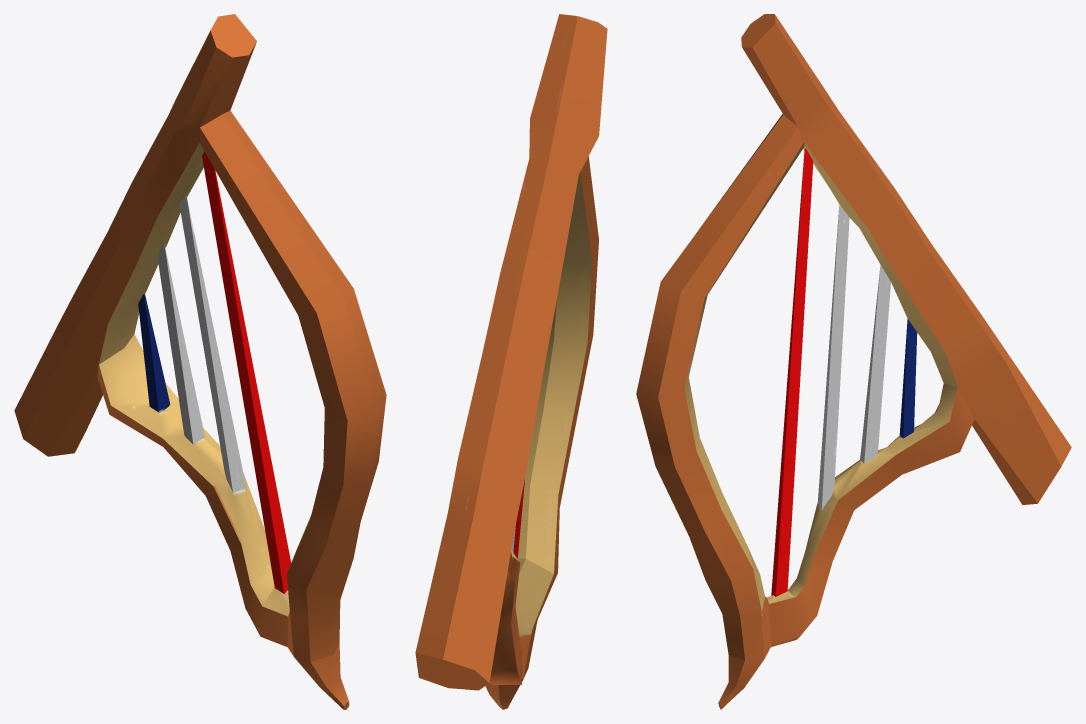
Rendered from Arpa3_000016.obj.
The picture shows the model from 3 angles, left to right: view 1: azimuth 30°, elevation 25°; view 2: azimuth 150°, elevation 25°; view 3: azimuth 270°, elevation 25°; orthographic projection. The views are drawn at different scales.
Visible parts, largest first — view 1: a3_Arpa_1:pCube6; view 2: a3_Arpa_1:pCube6; view 3: a3_Arpa_1:pCube6.
Boxes of the visible parts, x1=… form: a3_Arpa_1:pCube6: x1=14, y1=14, x2=386, y2=709; a3_Arpa_1:pCube6: x1=415, y1=14, x2=607, y2=709; a3_Arpa_1:pCube6: x1=636, y1=14, x2=1071, y2=709.
Size of the model in its own units: 2.54 by 10.04 by 6.09.
